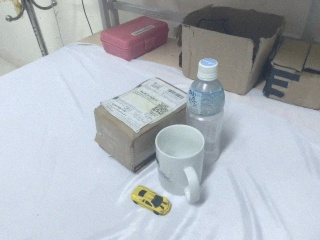bottle: (185, 56, 229, 164)
box: (179, 5, 285, 96), (94, 75, 189, 172), (263, 38, 320, 110), (100, 14, 169, 63)
cup: (154, 124, 206, 203)
toy_car: (131, 184, 172, 215)
